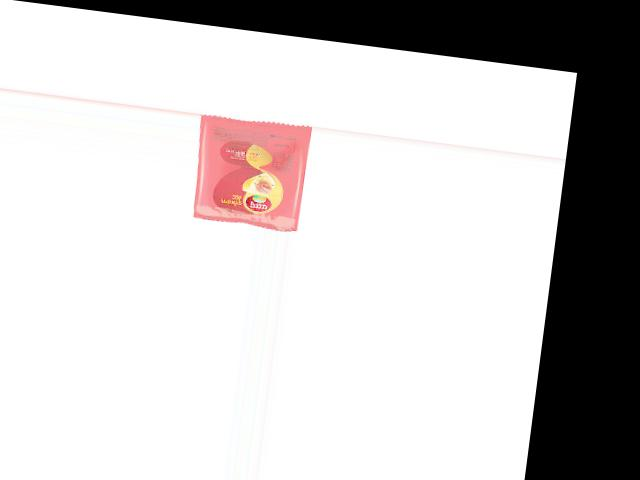cheese: (192, 112, 313, 232)
